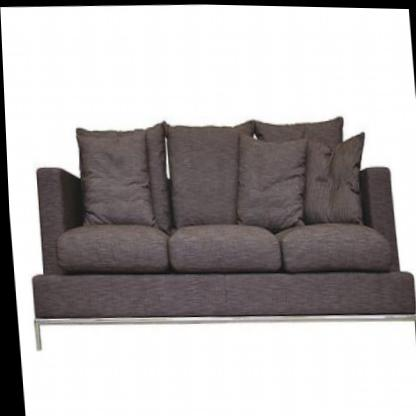Sofa: (15, 93, 416, 361)
